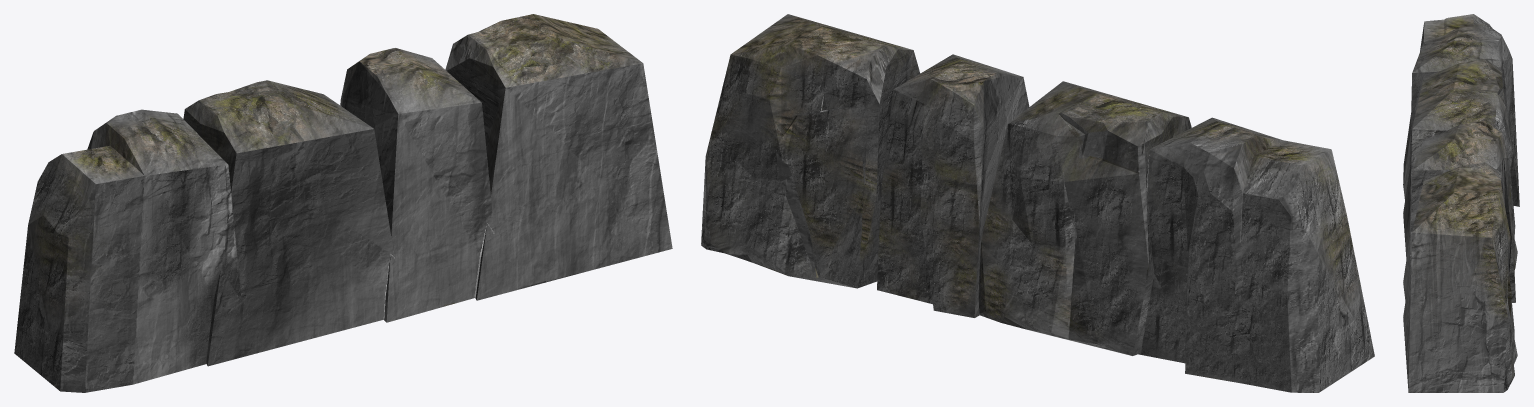
Rendered from rockCliff.glb.
3 renders of one model, left to right at view 1: azimuth 30°, elevation 25°; view 2: azimuth 150°, elevation 25°; view 3: azimuth 270°, elevation 25°, orthographic. The views are drawn at different scales.
Parts seen in each view (by area): view 1: Cube; view 2: Cube; view 3: Cube.
Boxes of the visible parts, x1=… form: Cube: x1=14, y1=14, x2=672, y2=392; Cube: x1=701, y1=14, x2=1374, y2=392; Cube: x1=1403, y1=14, x2=1519, y2=392.
Size of the model in its own units: 26.46 by 9.15 by 5.61.
Materials: 1 (1 with a texture image).
